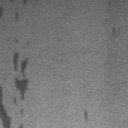red iron: (13, 52, 29, 100), (0, 85, 12, 128), (0, 6, 4, 18), (84, 110, 88, 121), (14, 12, 19, 20), (21, 0, 28, 5), (18, 123, 24, 128), (112, 28, 115, 37), (13, 96, 16, 105), (27, 42, 30, 46)
